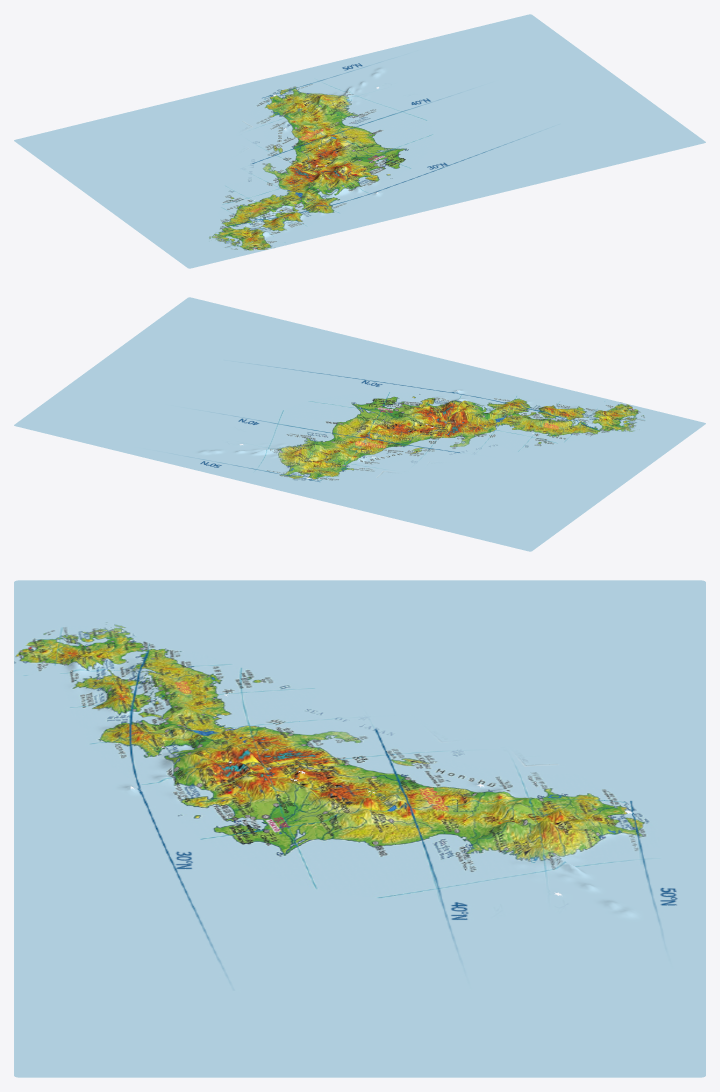
File: 日本地图.glb
3 views of the same model, one above another, from view 1: azimuth 30°, elevation 25°; view 2: azimuth 150°, elevation 25°; view 3: azimuth 270°, elevation 25° (orthographic). The views are drawn at different scales.
Visible parts, largest first — view 1: Mesh1; view 2: Mesh1; view 3: Mesh1.
Part boxes in pixels (x1,y1,x2,y2): Mesh1: [14, 14, 705, 268]; Mesh1: [14, 297, 705, 551]; Mesh1: [14, 580, 705, 1077].
Size of the model in its own units: 0.04 by 0.000613 by 0.0235.
Materials: 1 (1 with a texture image).
